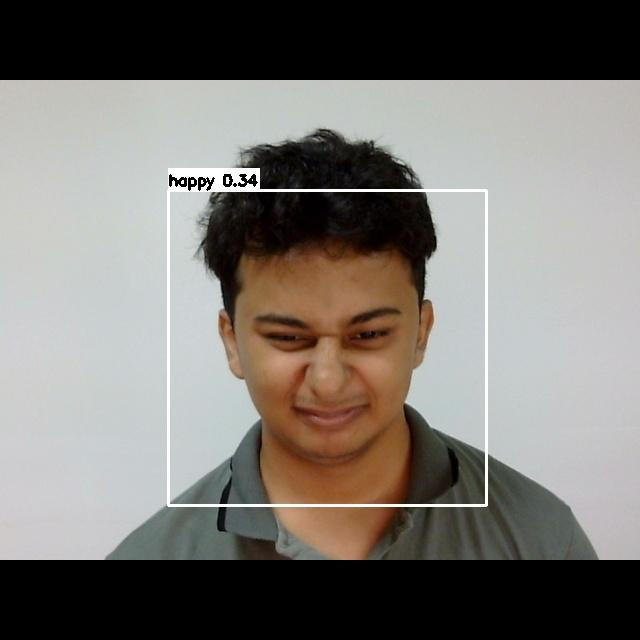Angry: (211, 280, 430, 449)
